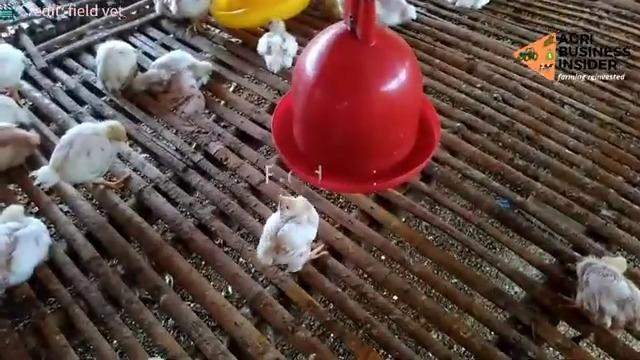AbNormal: (259, 193, 320, 271)
